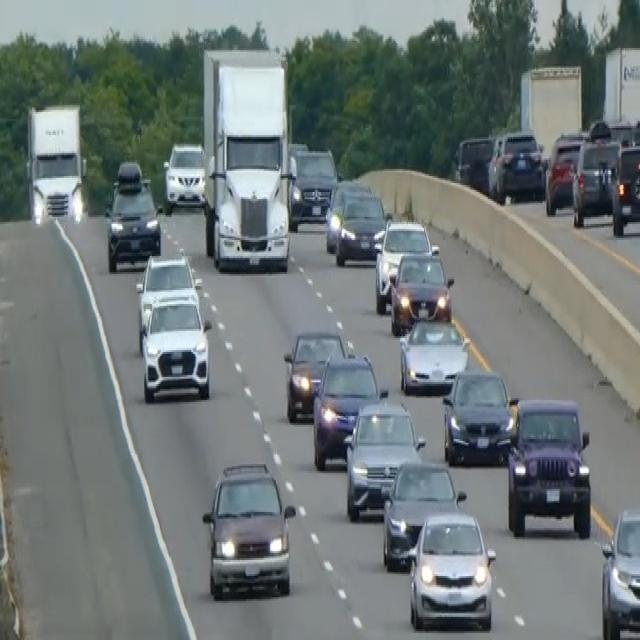car: (201, 459, 296, 601), (407, 509, 496, 631), (343, 397, 425, 519), (381, 457, 466, 569), (311, 350, 387, 470), (140, 292, 212, 402), (441, 366, 518, 466), (282, 326, 348, 422), (135, 250, 200, 346), (398, 311, 470, 395), (373, 217, 436, 313), (389, 247, 454, 334), (103, 176, 161, 270), (599, 505, 639, 638), (570, 135, 620, 226), (488, 128, 545, 204), (334, 190, 389, 267), (288, 146, 338, 228), (543, 130, 587, 213), (324, 176, 370, 251), (162, 138, 205, 210), (611, 140, 639, 237), (454, 133, 494, 192)
jeep: (504, 393, 593, 539)
lorry: (200, 44, 295, 274), (24, 98, 88, 228)
